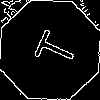T: (25, 25, 79, 71)
